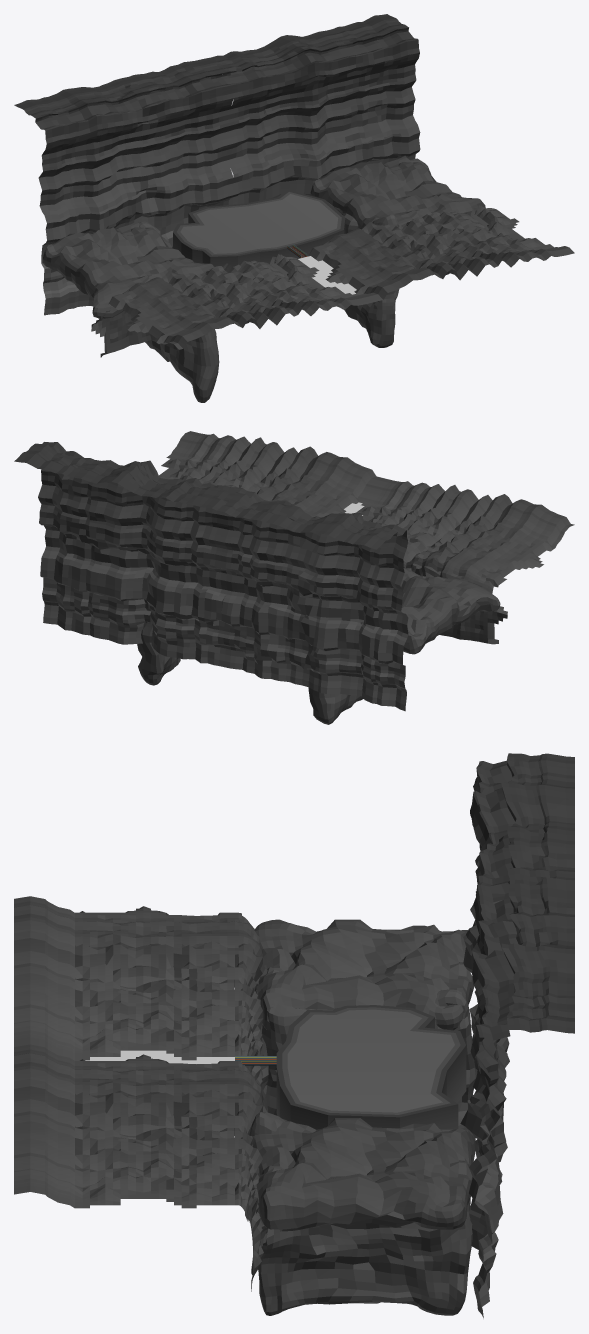
Rendered from NaveAEstacion01.fbx.
3 renders of one model, top to bottom at view 1: azimuth 30°, elevation 25°; view 2: azimuth 150°, elevation 25°; view 3: azimuth 270°, elevation 25°, orthographic. The views are drawn at different scales.
Visible parts, largest first — view 1: Plane015, Plane017, Plane016, Plane014, Plane005, Plane004, Line001, Box009, Box010, Plane018, Box050, Plane019 (+3 smaller); view 2: Plane015, Plane014, Plane018, Plane017, Plane016, Plane004, Plane005, Box009, Plane019, Box051, Box050; view 3: Plane004, Plane005, Box010, Line001, Plane018, Box051, Box009, Plane016, Plane017, Plane014, Plane020, Plane019 (+3 smaller).
Part boxes in pixels (left/top/right/bottom): Plane015: left=38, top=132, right=233, bottom=315; Plane017: left=14, top=59, right=233, bottom=177; Plane016: left=201, top=14, right=419, bottom=132; Plane014: left=225, top=87, right=420, bottom=204; Plane005: left=311, top=208, right=551, bottom=293; Plane004: left=110, top=257, right=351, bottom=342; Line001: left=173, top=190, right=345, bottom=266; Box009: left=43, top=221, right=214, bottom=318; Box010: left=310, top=155, right=485, bottom=229; Plane018: left=156, top=246, right=574, bottom=349; Box050: left=139, top=221, right=219, bottom=402; Plane019: left=91, top=253, right=296, bottom=357; Plane015: left=219, top=541, right=408, bottom=711; Plane014: left=38, top=497, right=227, bottom=666; Plane018: left=169, top=431, right=574, bottom=549; Plane017: left=195, top=486, right=407, bottom=585; Plane016: left=14, top=442, right=224, bottom=541; Plane004: left=356, top=503, right=552, bottom=583; Plane005: left=159, top=456, right=358, bottom=517; Box009: left=360, top=568, right=500, bottom=654; Plane019: left=403, top=555, right=507, bottom=644; Box051: left=137, top=599, right=221, bottom=685; Box050: left=308, top=687, right=363, bottom=724; Plane004: left=82, top=906, right=234, bottom=1060; Plane005: left=82, top=1054, right=234, bottom=1208; Box010: left=252, top=1118, right=472, bottom=1231; Line001: left=276, top=1005, right=466, bottom=1129; Plane018: left=14, top=896, right=82, bottom=1208; Box051: left=249, top=1112, right=472, bottom=1315; Box009: left=254, top=919, right=473, bottom=1030; Plane016: left=472, top=891, right=574, bottom=1115; Plane017: left=470, top=753, right=574, bottom=916; Plane014: left=460, top=1036, right=509, bottom=1318; Plane020: left=235, top=1061, right=267, bottom=1291; Plane019: left=235, top=912, right=268, bottom=1094.
Bounding box in the file's own units: 3674 × 2178 × 2899.
Materials: 1 (1 with a texture image).
